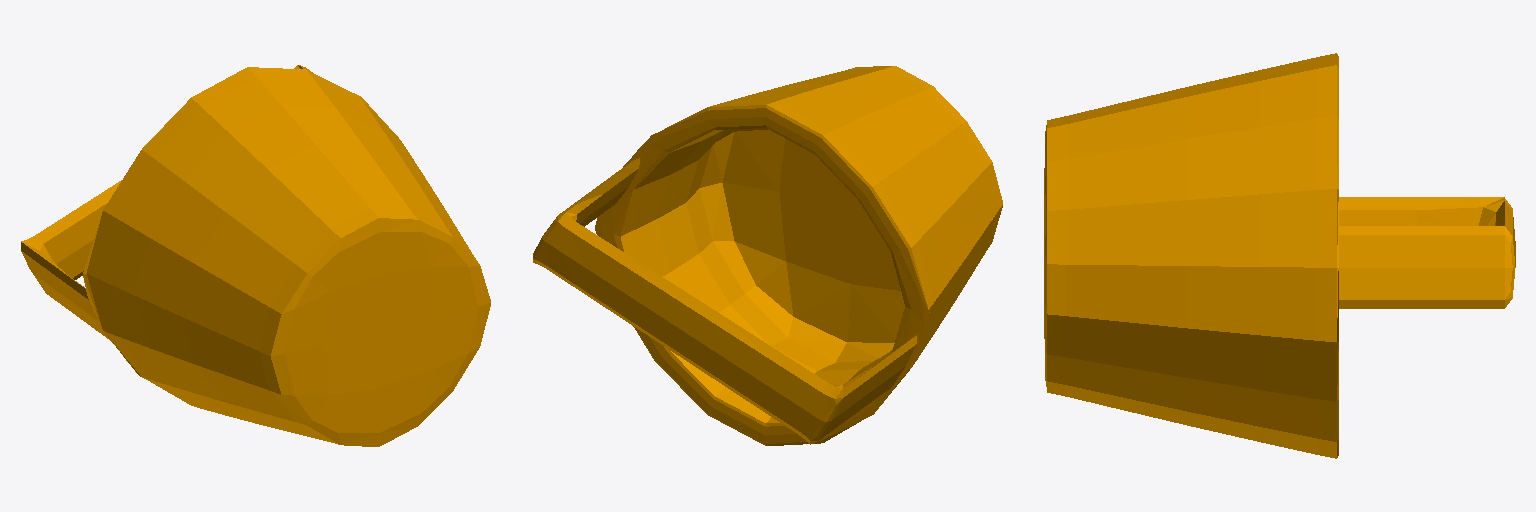
The robot description file, URDF, robot "136":
<?xml version="1.0" ?>
<robot name="136">
  <link name="body">
    <visual>
      <geometry>
        <mesh filename="../shapes/136.obj"/>
      </geometry>
    </visual>
    <collision>
      <geometry>
        <mesh filename="../shapes/136.obj"/>
      </geometry>
    </collision>
  </link>
</robot>

--- What the picture shows (computed from the rendered views, not written in the file) ---
The picture shows the robot from 3 angles, left to right: view 1: azimuth 30°, elevation 25°; view 2: azimuth 150°, elevation 25°; view 3: azimuth 270°, elevation 25°; orthographic projection.
Robot: 136 — 1 links, 0 joints (none); root link body; default pose: all joints at 0.
Visible links, largest first — view 1: body; view 2: body; view 3: body.
Boxes of the visible links, x1,y1,x2,y2 form: body: (21, 65, 490, 446); body: (533, 66, 1002, 445); body: (1044, 53, 1515, 458).
Size in the robot's own frame: 2.88 by 3.14 by 2.8 metres.
1 mesh visuals loaded from 1 distinct referenced files (1 OBJ).